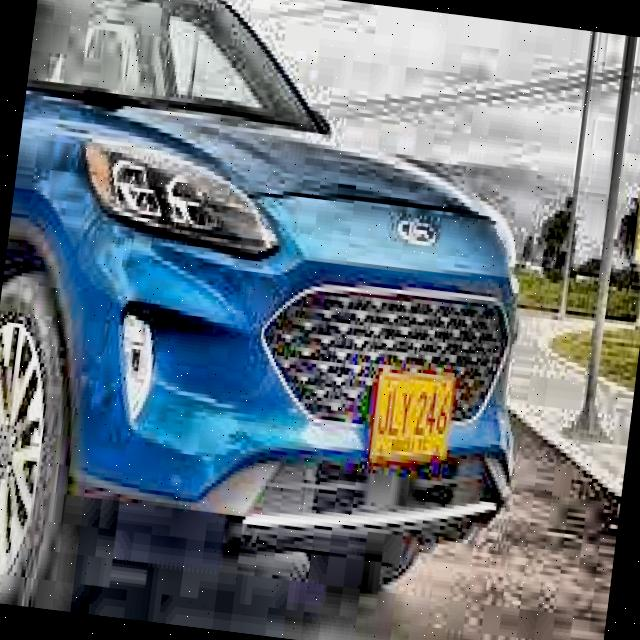2: (410, 387, 431, 438)
4: (423, 386, 439, 440)
6: (434, 390, 451, 439)
J: (375, 389, 392, 436)
L: (387, 387, 401, 438)
Y: (399, 389, 414, 440)
